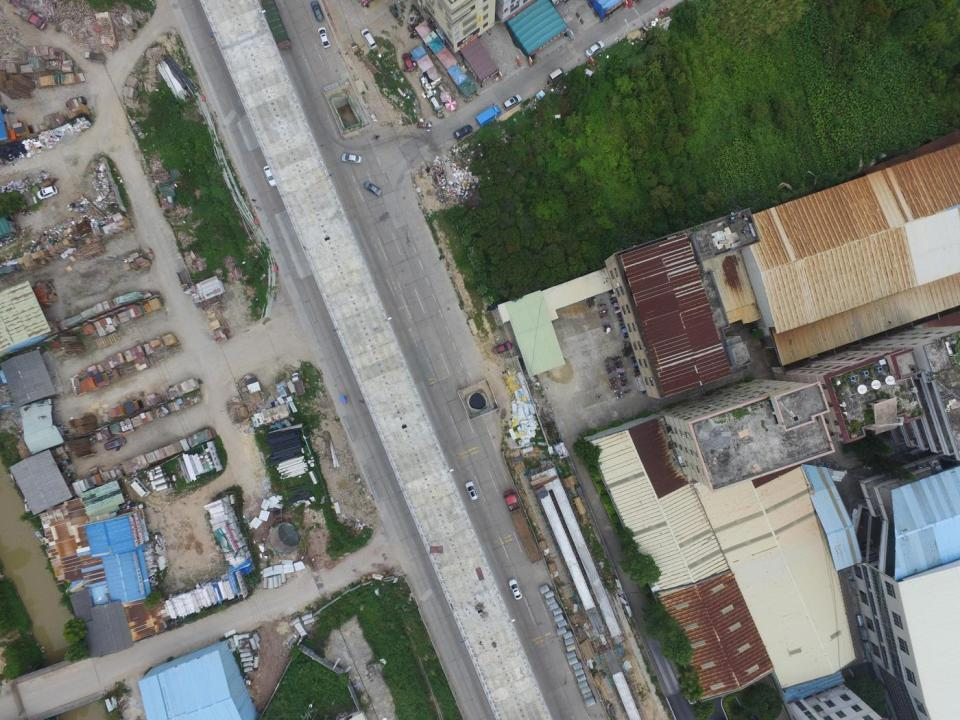car: (584, 39, 606, 58), (363, 180, 383, 198), (262, 164, 278, 186), (452, 124, 474, 140), (361, 27, 377, 49), (508, 577, 523, 600), (65, 96, 87, 110), (104, 437, 126, 451), (37, 186, 58, 200), (504, 93, 522, 109), (318, 26, 331, 48), (311, 0, 324, 22), (492, 341, 513, 354), (465, 481, 478, 500), (341, 153, 362, 164), (402, 52, 414, 71)
truck: (502, 488, 543, 564), (260, 0, 291, 50), (12, 4, 46, 30), (475, 106, 502, 128), (84, 50, 105, 63)
van: (129, 476, 151, 498), (548, 67, 565, 83)
